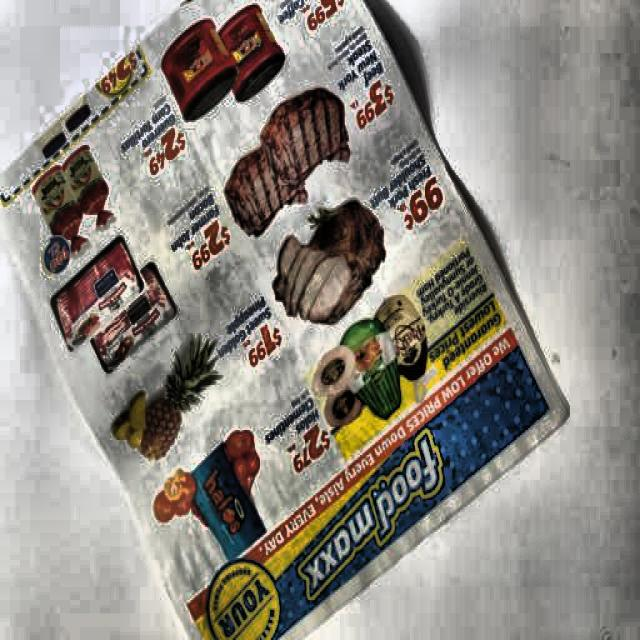paper: (8, 0, 564, 611)
